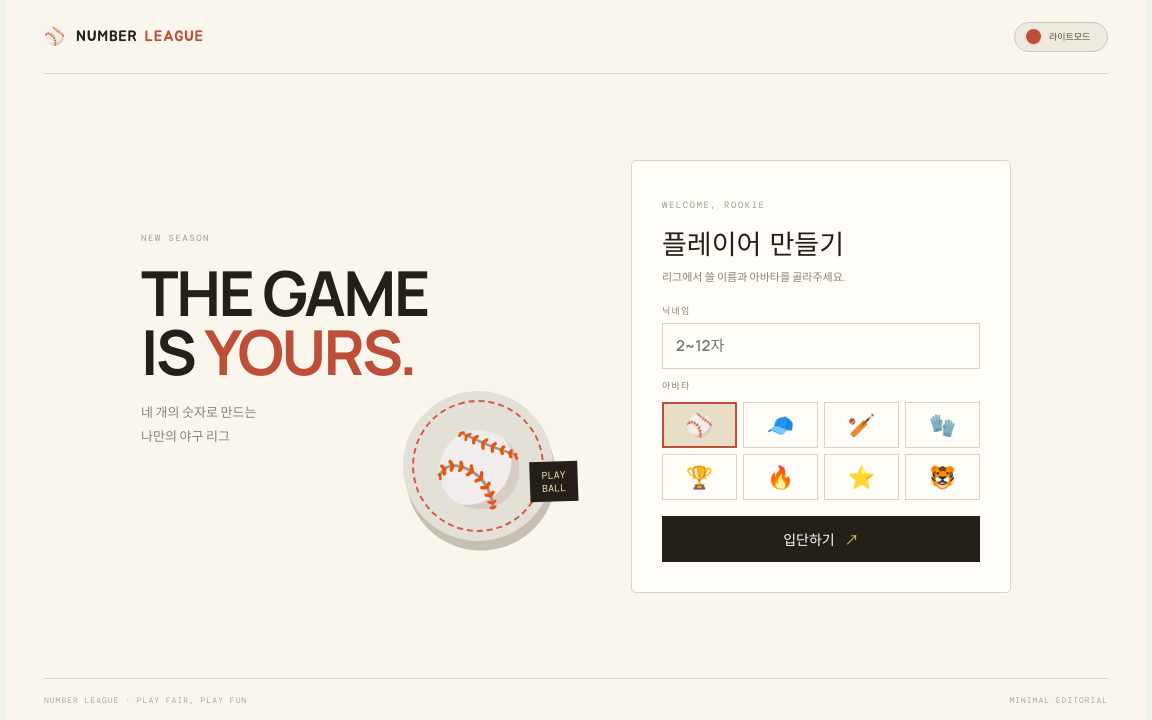
Test: App — 온라인 › 첫 실행이면 플레이어 만들기 → 홈, 헤더에 내 프로필
Type "민지" into the field labelled "닉네임".
click(821, 346); type("민지")  # box [662,322,980,368]
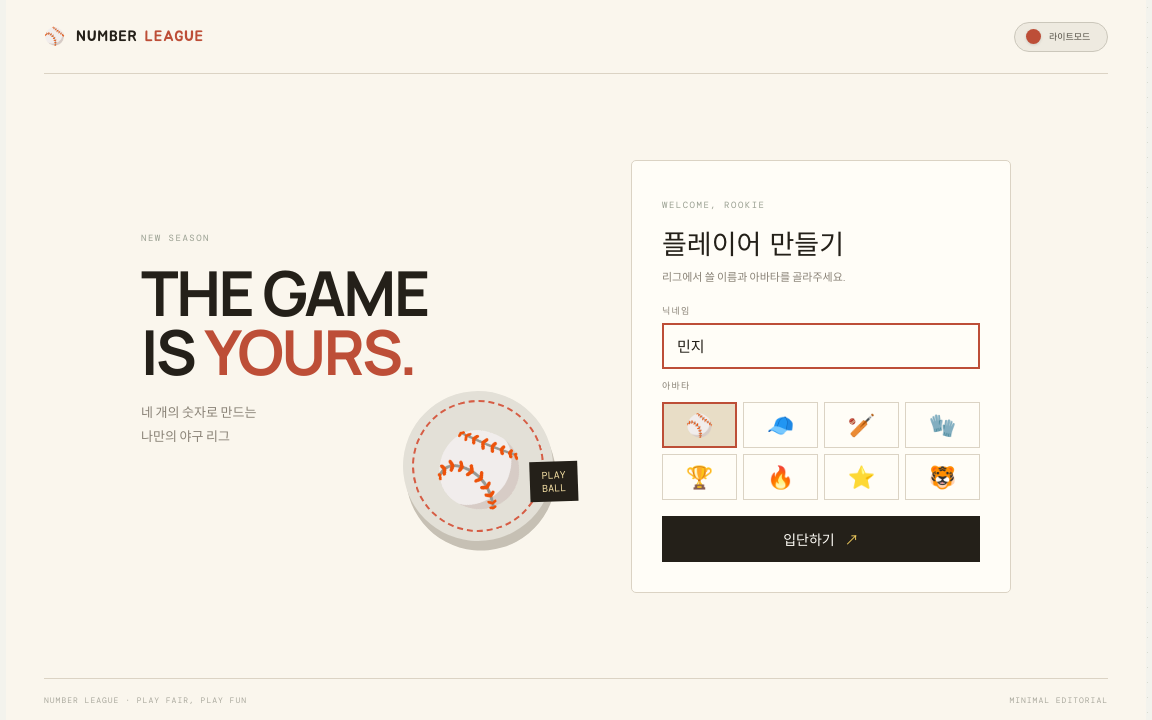
Click the button "입단하기↗".
click(821, 538)  # box [662,516,980,562]
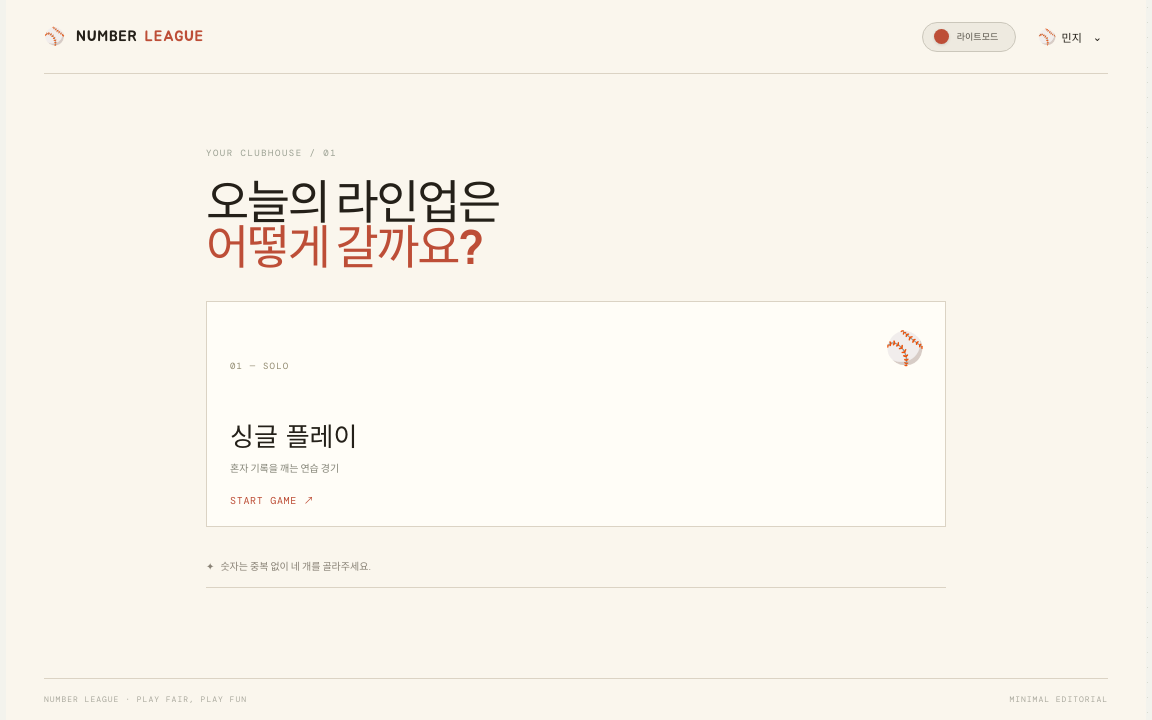
Result: the heading "오늘의 라인업은" is shown at [206,169,499,278]
Result: the button with aria-label "민지 전적 보기" is shown at [1026,25,1108,48]
